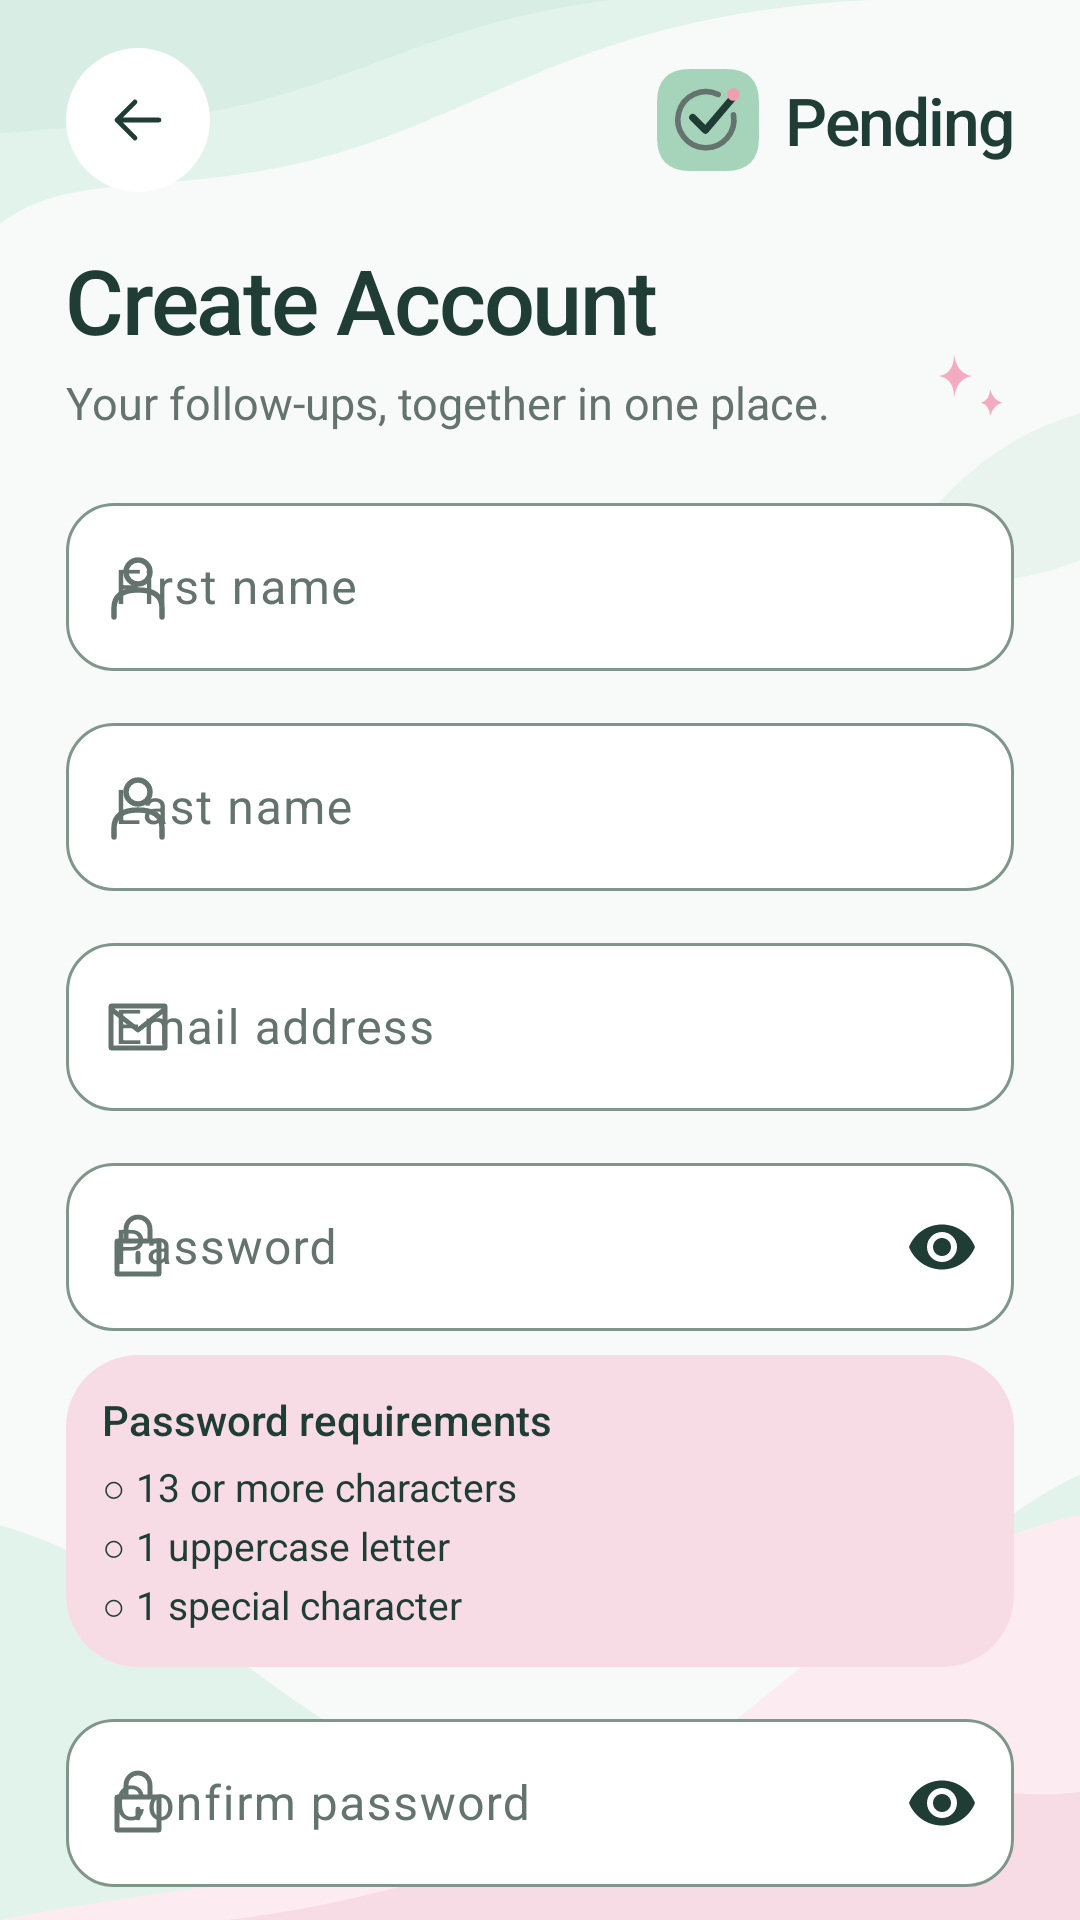

Point at icon controls on the screen. Image size 1080 × 1920, points as (x=x, y=y).
Go back: (x=138, y=120)
